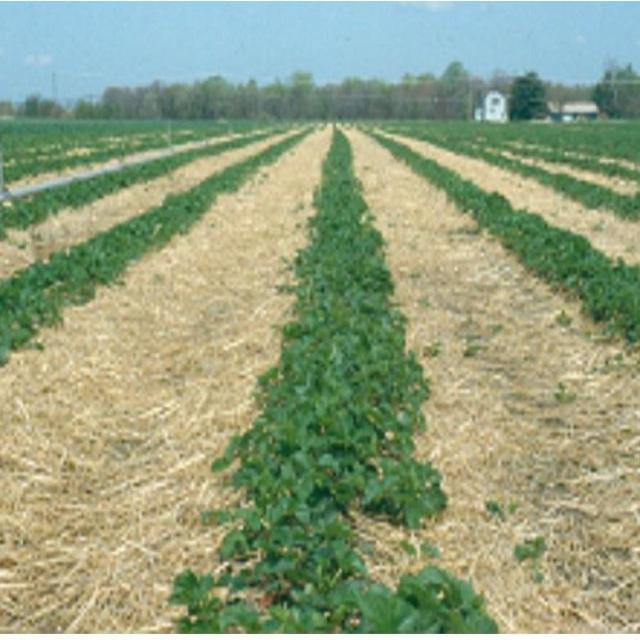row: (0, 128, 331, 636), (351, 131, 640, 635), (0, 127, 311, 280), (387, 132, 640, 268)
